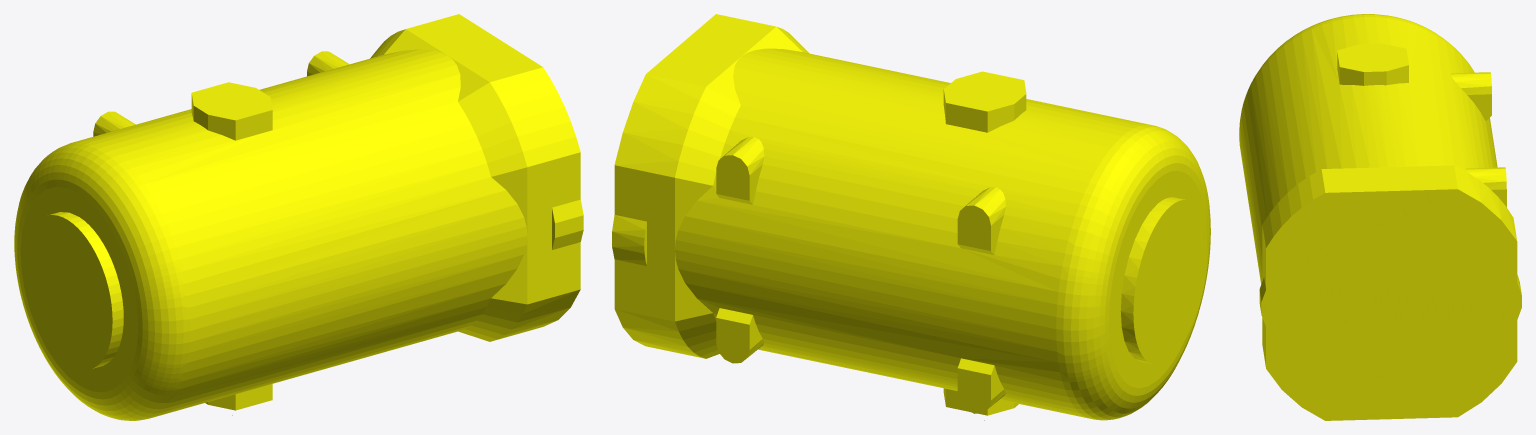
The picture shows the model from 3 angles, left to right: view 1: azimuth 30°, elevation 25°; view 2: azimuth 150°, elevation 25°; view 3: azimuth 270°, elevation 25°; orthographic projection. The views are drawn at different scales.
Visible parts, largest first — view 1: node; view 2: node; view 3: node.
Part boxes in pixels (left/top/right/bottom): node: left=14, top=14, right=583, bottom=420; node: left=612, top=14, right=1210, bottom=420; node: left=1239, top=14, right=1521, bottom=420.
Size of the model in its own units: 541 by 351 by 326.
